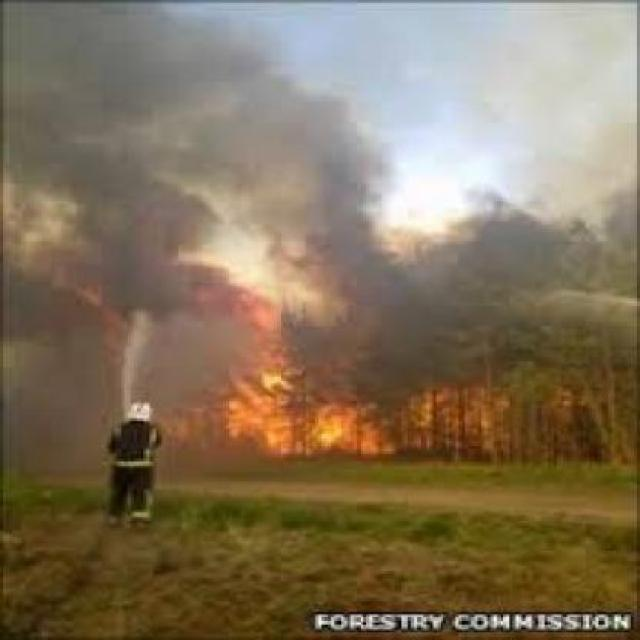Fire: (215, 341, 546, 472)
Smoke: (8, 0, 266, 523)
